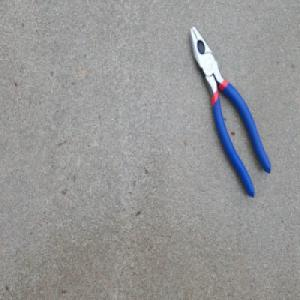Pliers: (188, 25, 271, 199)
